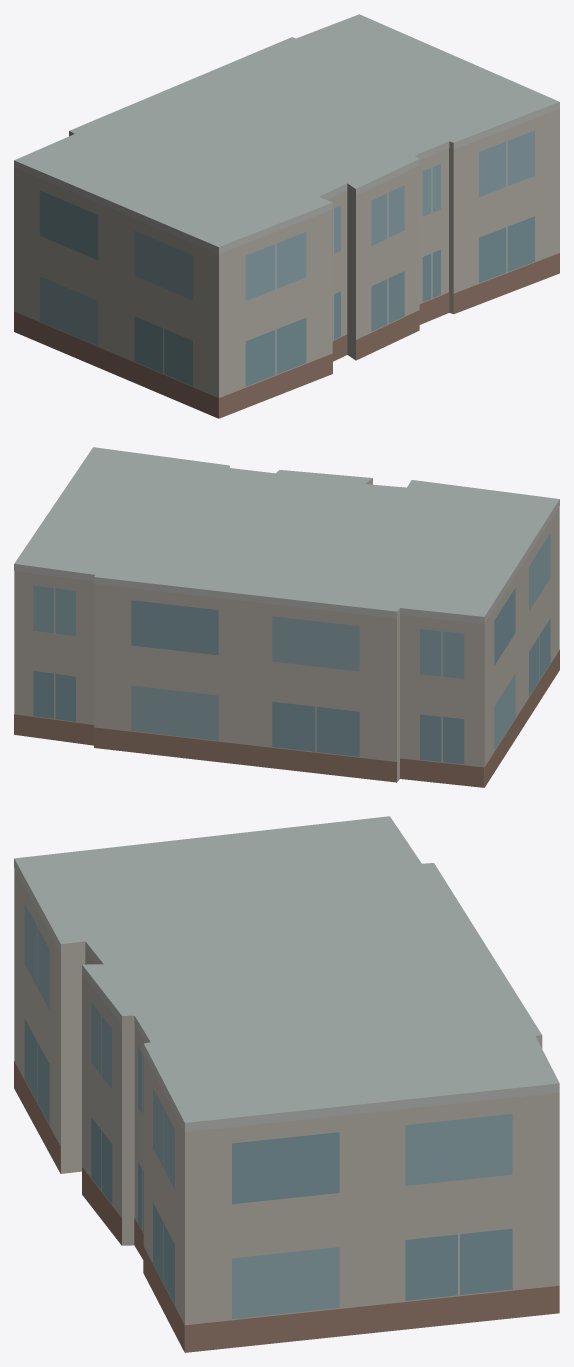
Rendered from survey-upis-32624099.glb.
The picture shows the model from 3 angles, top to bottom: view 1: azimuth 30°, elevation 25°; view 2: azimuth 150°, elevation 25°; view 3: azimuth 270°, elevation 25°; orthographic projection. The views are drawn at different scales.
Visible parts, largest first — view 1: survey-upis-32624099.tmp; view 2: survey-upis-32624099.tmp; view 3: survey-upis-32624099.tmp.
Boxes of the visible parts, x1,y1,x2,y2 form: survey-upis-32624099.tmp: [14, 14, 559, 418]; survey-upis-32624099.tmp: [14, 447, 559, 787]; survey-upis-32624099.tmp: [14, 816, 559, 1352].
Size of the model in its own units: 17.48 by 6.1 by 13.14.
